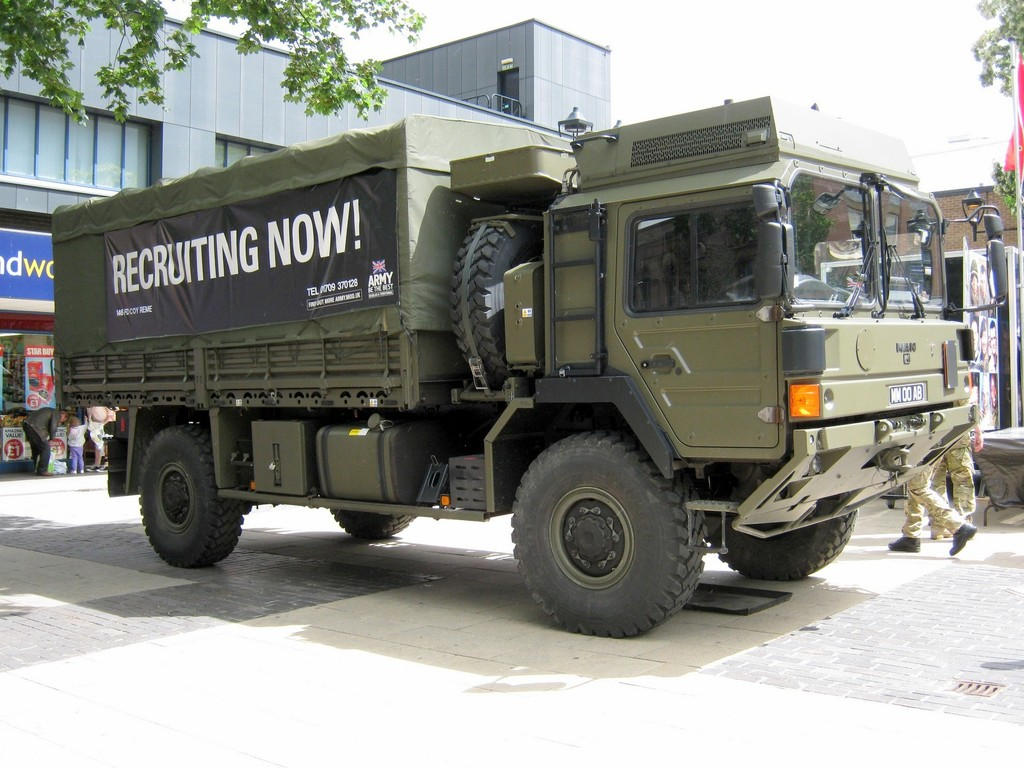truck: (39, 84, 1008, 640)
